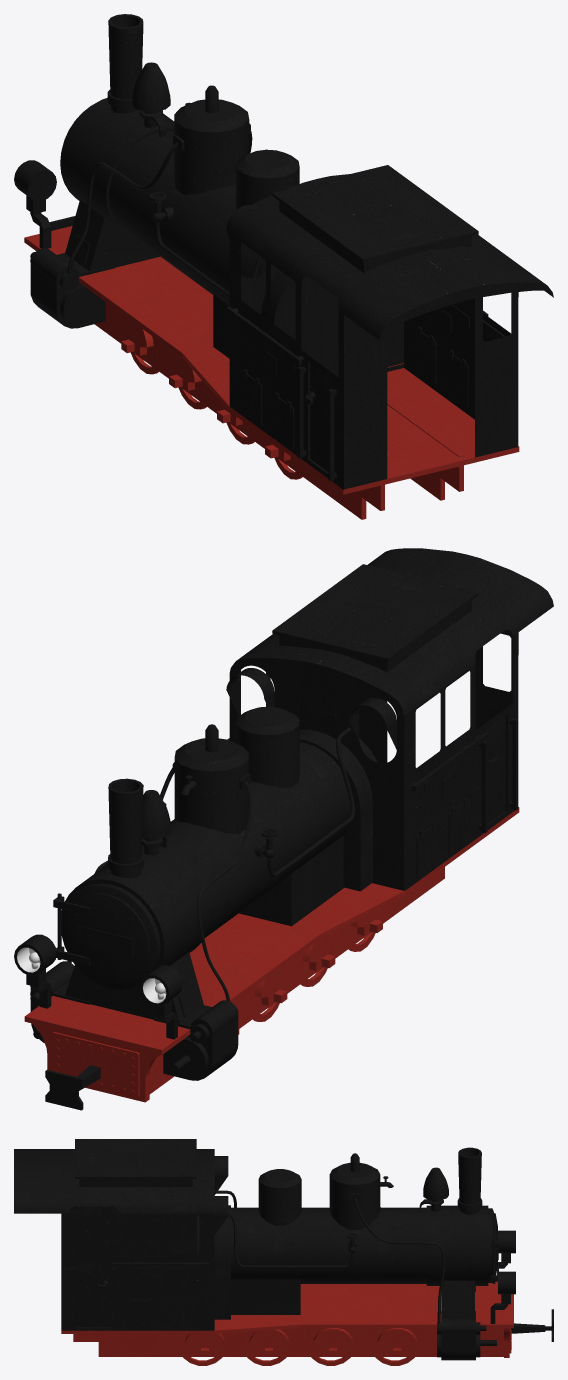
File: mpsb_12.gltf
3 renders of one model, top to bottom at view 1: azimuth 30°, elevation 25°; view 2: azimuth 150°, elevation 25°; view 3: azimuth 270°, elevation 25°, orthographic. The views are drawn at different scales.
Visible parts, largest first — view 1: Cabin, SteamChamber, Bottom, Deco; view 2: SteamChamber, Cabin, Bottom, Deco; view 3: SteamChamber, Cabin, Bottom, Deco.
Boxes of the visible parts, x1,y1,x2,y2 form: Cabin: (229, 165, 553, 489); SteamChamber: (60, 14, 379, 377); Bottom: (24, 226, 519, 519); Deco: (14, 123, 488, 481); SteamChamber: (53, 706, 377, 1023); Cabin: (229, 548, 553, 890); Bottom: (24, 807, 519, 1102); Deco: (14, 668, 518, 1110); SteamChamber: (197, 1147, 498, 1319); Cabin: (14, 1139, 214, 1330); Bottom: (61, 1281, 513, 1365); Deco: (70, 1156, 553, 1360).
Size of the model in its own units: 1.91 by 2.9 by 7.07.
